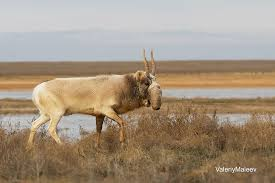saiga: (27, 47, 162, 161)
